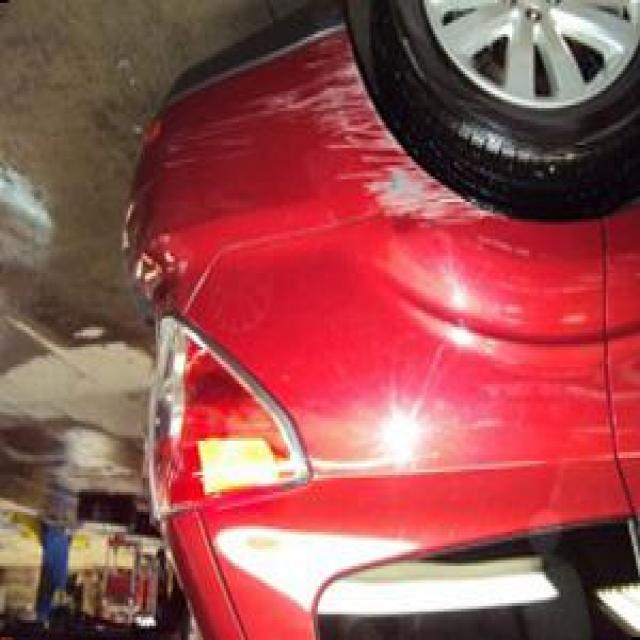scratch: (266, 29, 514, 238)
